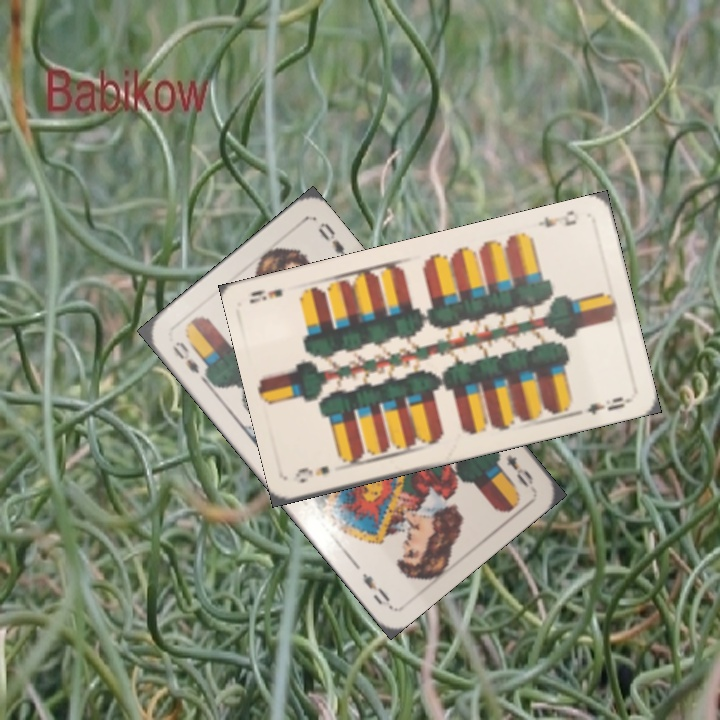E9: (533, 206, 579, 231), (291, 462, 332, 486)
EO: (168, 337, 211, 384), (502, 450, 536, 491)
